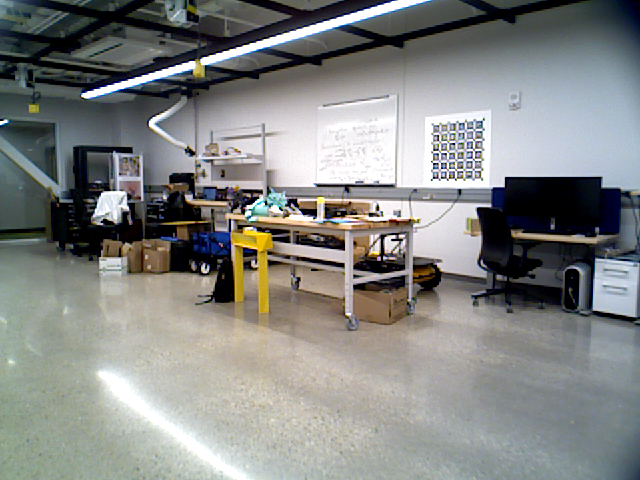painting4: (424, 113, 493, 186)
